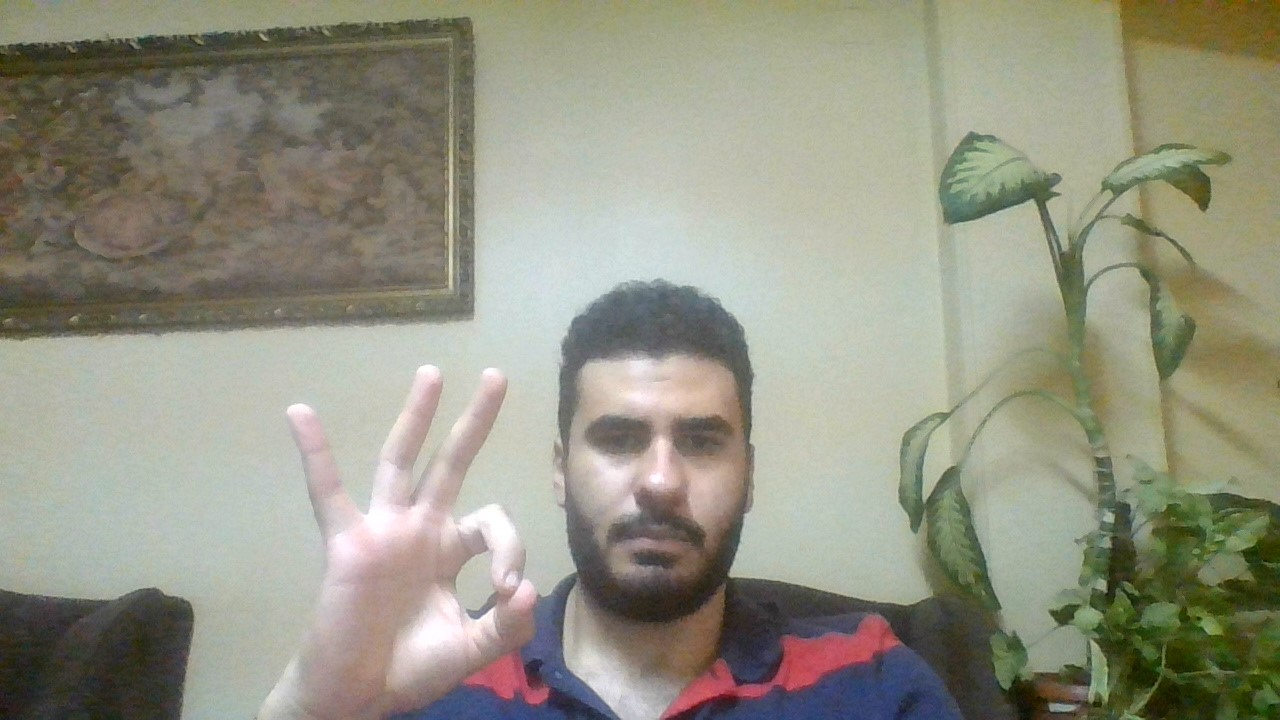okay: (258, 356, 541, 675)
